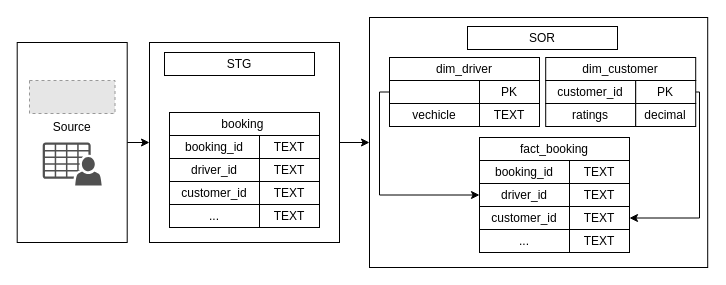
Some shapes in this 726 by 285 pixel diagram are drawn without their labels. Grey dashed boxes stand in for pictures. The shapes that lost their labels are listed below. From the top down, each one's centre as x and y in pixels, then its label:
point (434, 92): driver id
point (71, 163): CSV
